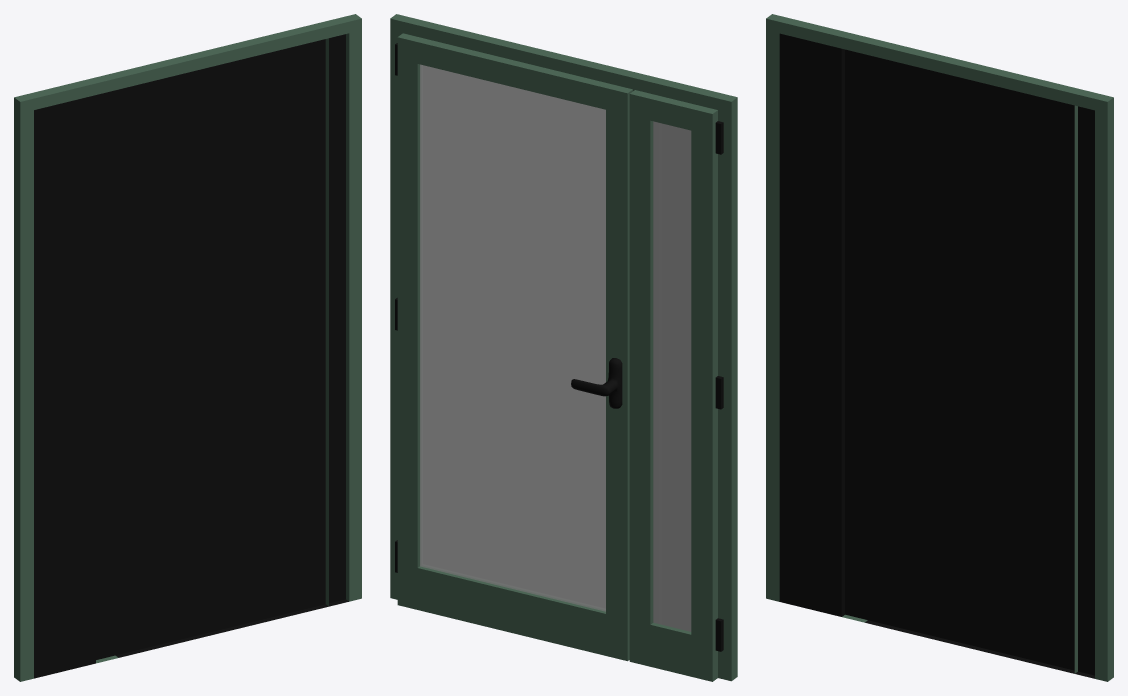
File: Porta_M_new.fbx
3 views of the same model, side by side, from view 1: azimuth 30°, elevation 25°; view 2: azimuth 150°, elevation 25°; view 3: azimuth 330°, elevation 25° (orthographic).
Parts seen in each view (by area): view 1: Struttura; view 2: Porta, Struttura; view 3: Struttura.
Boxes of the visible parts, x1,y1,x2,y2 form: Struttura: [14, 14, 361, 681]; Porta: [397, 33, 632, 661]; Struttura: [390, 14, 737, 681]; Struttura: [766, 14, 1113, 681].
Bounding box in the file's own units: 324 × 525 × 41.1.
